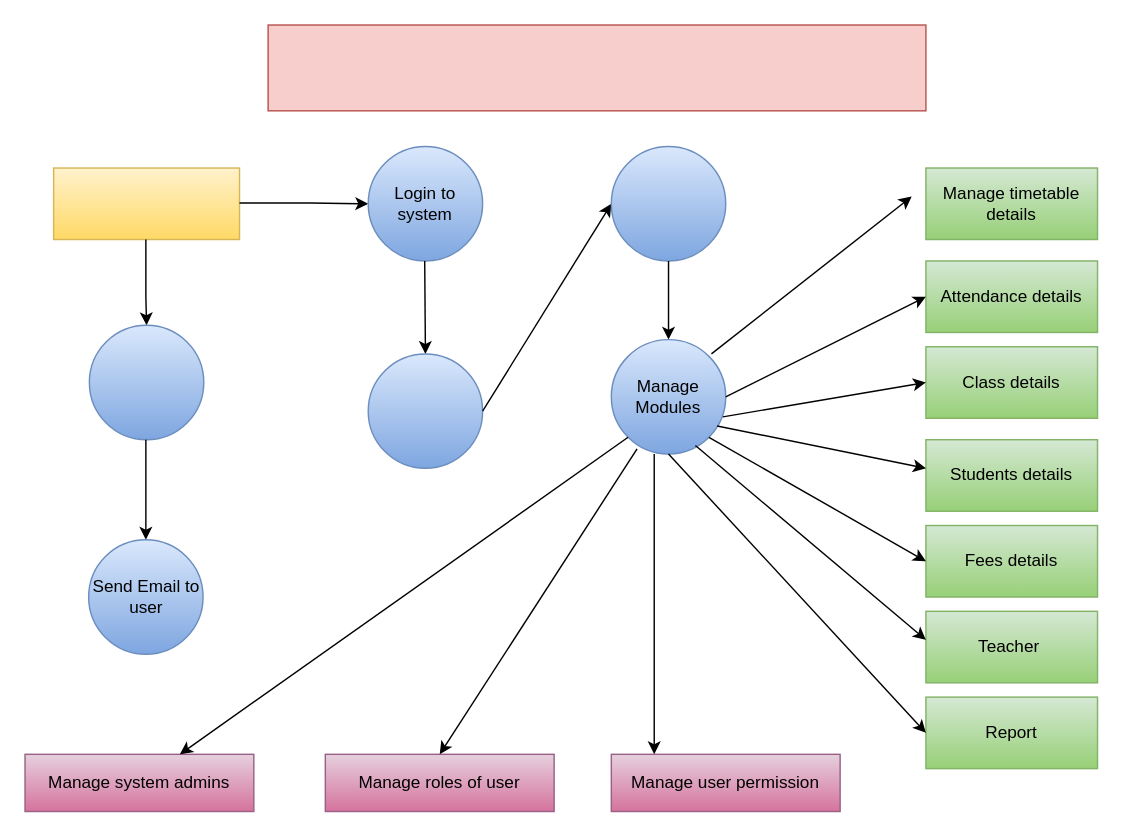
Image size: 1123x837. Some labels were removed from this diagram. The shapes that lost their labels are listed below. From the top down, each one's box as (x1, y1, x2, y2) in pixels, then its label:
(267, 24, 926, 111): Student Information System
(52, 167, 240, 240): Admin
(610, 145, 726, 261): Check roles of access
(88, 324, 204, 440): Forgot Password
(367, 352, 483, 468): Check Credentials
